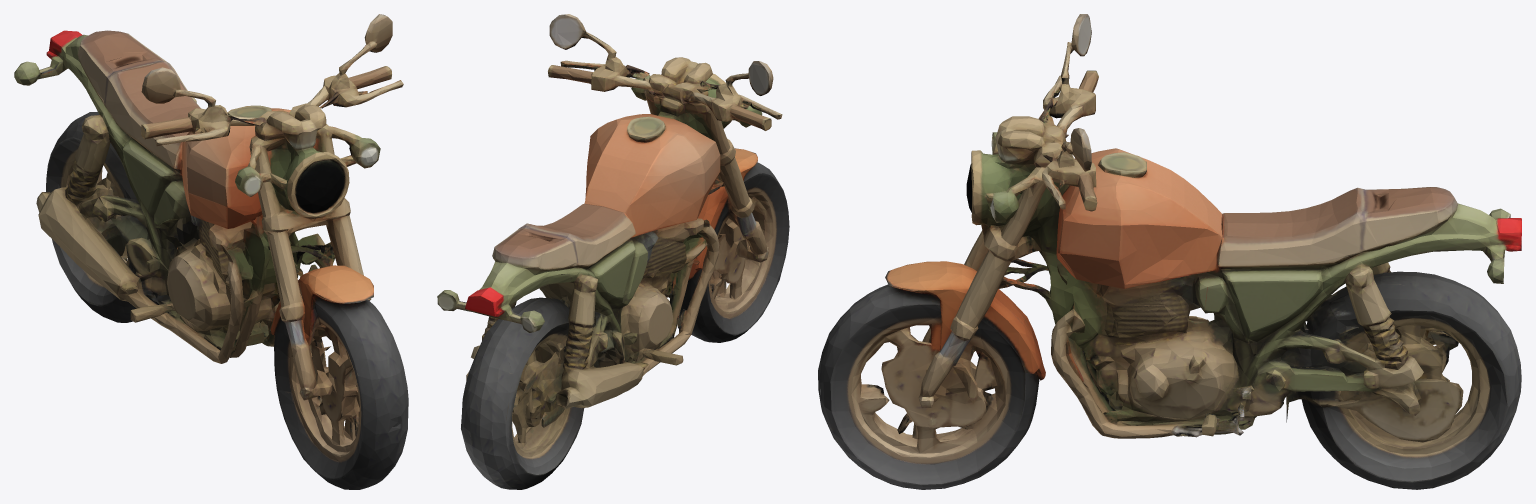
The model's file is motorcycle.glb.
3 views of the same model, side by side, from view 1: azimuth 30°, elevation 25°; view 2: azimuth 150°, elevation 25°; view 3: azimuth 270°, elevation 25° (orthographic). The views are drawn at different scales.
Visible parts, largest first — view 1: world; view 2: world; view 3: world.
Boxes of the visible parts, x1,y1,x2,y2 form: world: (14, 14, 408, 489); world: (437, 14, 789, 489); world: (818, 14, 1521, 489).
Size of the model in its own units: 0.4374 by 0.6506 by 1.
1 material, 1 textured.
